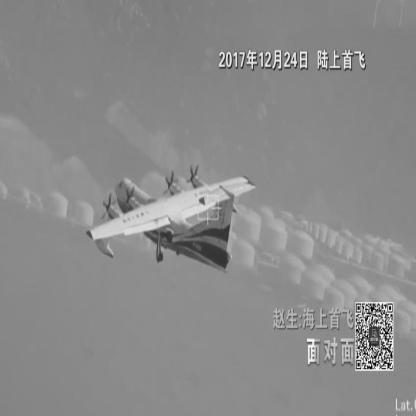AG600: (86, 164, 258, 275)
